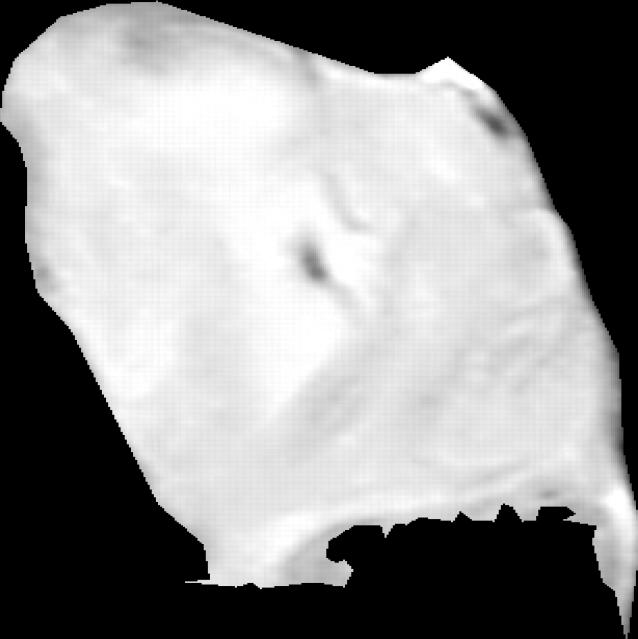tumor_moderate_chance: (0, 1, 638, 639)
